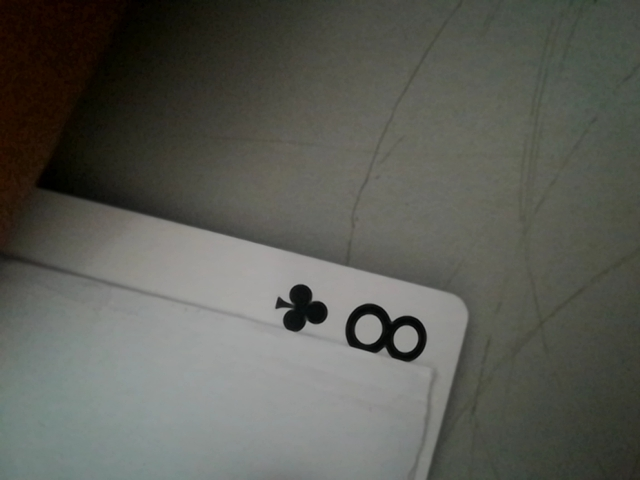mh 8: (262, 271, 443, 370)
